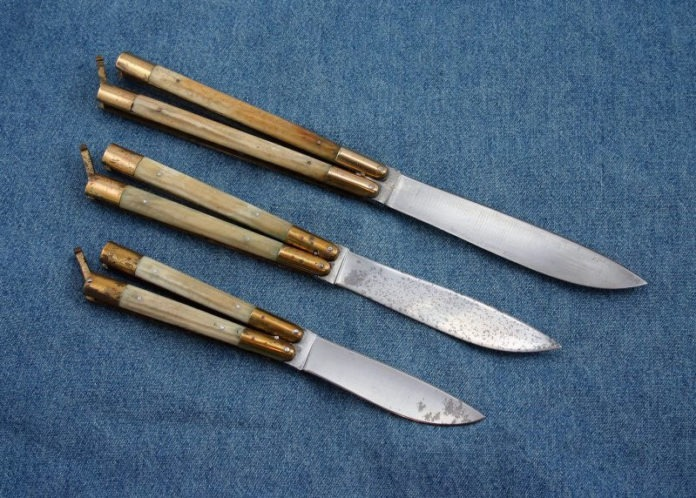knife: (90, 37, 658, 296), (69, 125, 564, 379), (61, 228, 482, 442)
